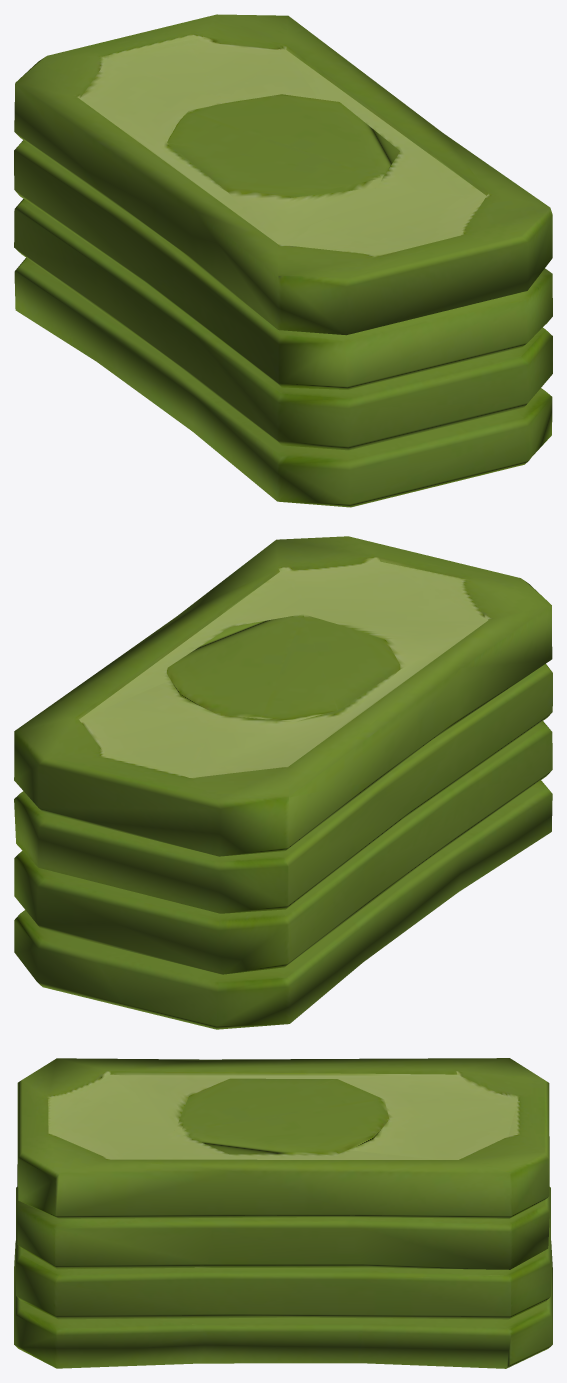
File: Money.fbx
The picture shows the model from 3 angles, top to bottom: view 1: azimuth 30°, elevation 25°; view 2: azimuth 150°, elevation 25°; view 3: azimuth 270°, elevation 25°; orthographic projection. The views are drawn at different scales.
Parts seen in each view (by area): view 1: tripo_node_89ef1bba; view 2: tripo_node_89ef1bba; view 3: tripo_node_89ef1bba.
Part boxes in pixels (x1,y1,x2,y2): tripo_node_89ef1bba: [14, 14, 552, 507]; tripo_node_89ef1bba: [14, 536, 552, 1029]; tripo_node_89ef1bba: [14, 1058, 552, 1368].
Size of the model in its own units: 50.68 by 100 by 40.44.
1 material, 1 textured.
